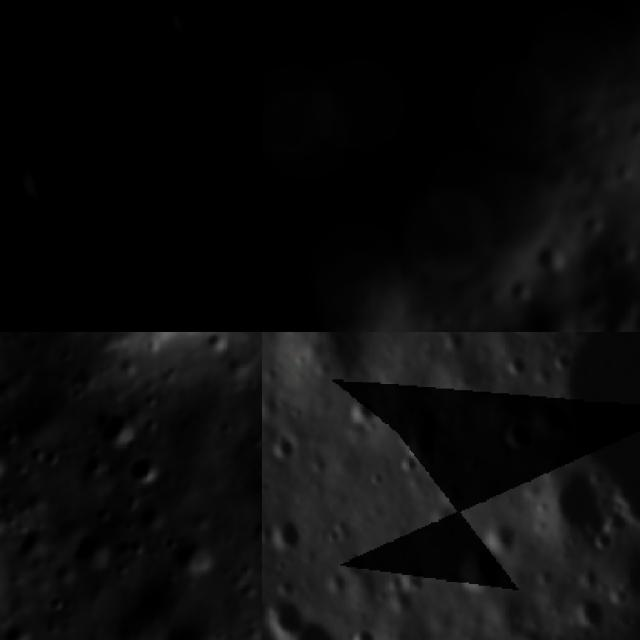crater: (0, 11, 142, 182), (533, 458, 609, 552), (164, 219, 222, 278), (447, 542, 506, 598), (18, 154, 74, 212), (136, 113, 192, 167), (70, 526, 125, 580), (158, 0, 213, 45), (262, 611, 347, 640), (93, 210, 141, 261), (264, 589, 315, 636), (480, 506, 522, 562), (488, 413, 540, 458), (398, 423, 440, 468), (127, 450, 171, 490), (562, 595, 608, 632), (536, 399, 578, 436), (224, 108, 262, 148), (342, 391, 380, 429), (497, 349, 534, 384), (268, 426, 299, 465), (545, 342, 577, 375), (0, 444, 13, 492), (348, 628, 382, 640)
